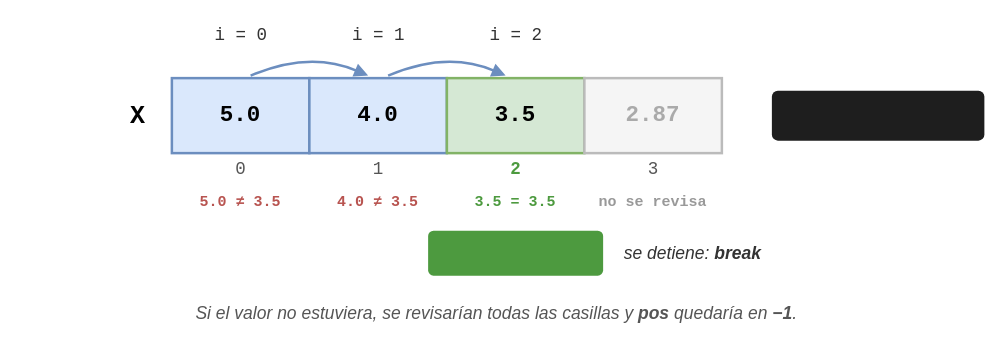
The diagram is 1005 pixels wide and 350 high, and some of its shapes have lost their labels. The shapes that lost their labels are listed below. From the top down, each one's centre as x and y in pixels, then its label:
the point at 877,115: buscado = 3.5
the point at 515,252: pos = 2
